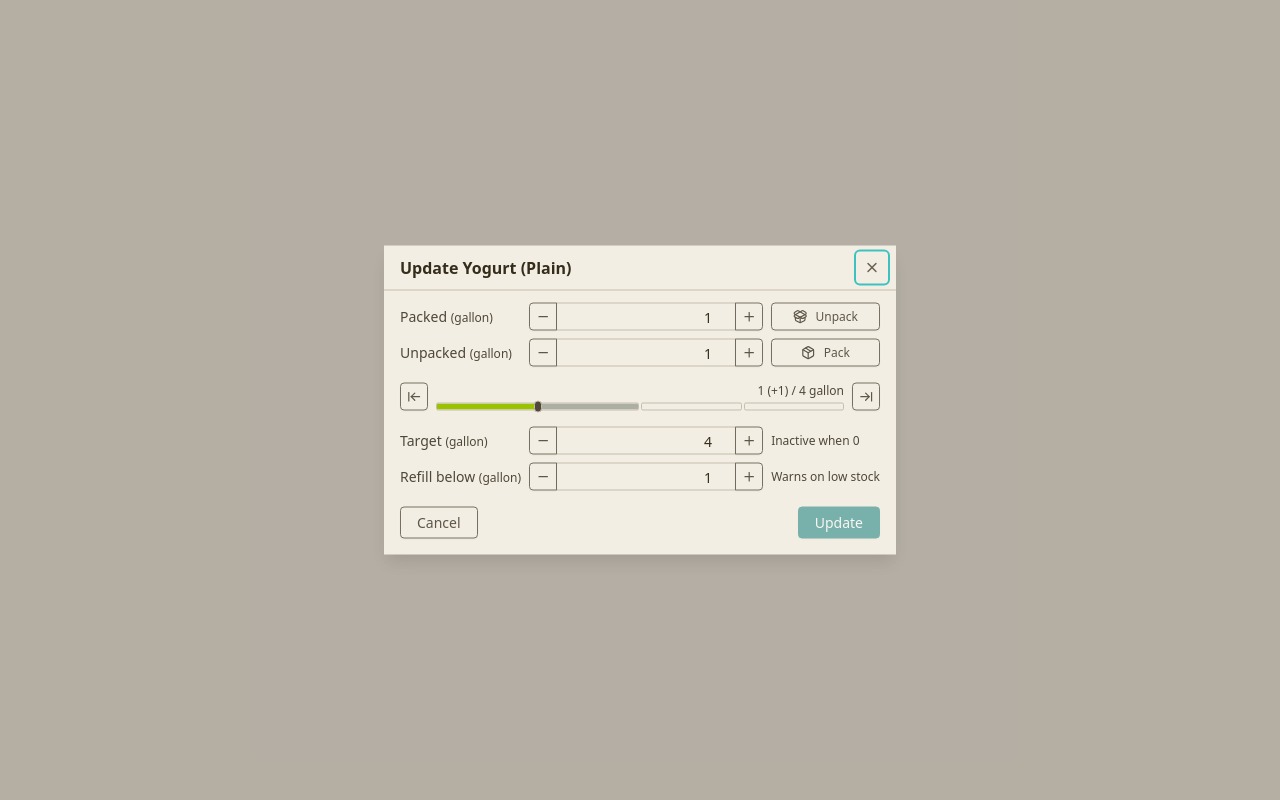
QuickUpdateDialog — Update button covers all four values › user can save after changing only the target
This screenshot has width=1280, height=800.
// When only the target changes
Click the button named "Increase target quantity" at (749, 440), box [735,426,763,454]
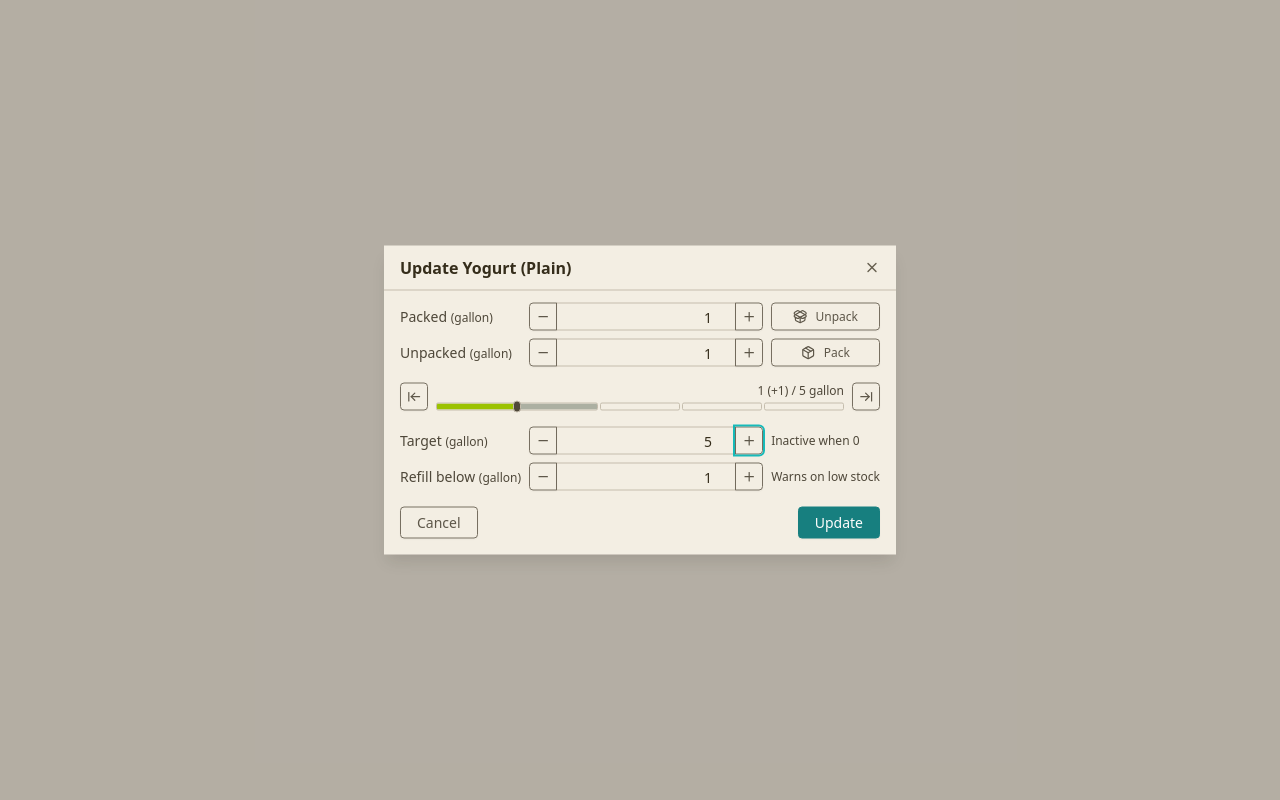
expect the button "Update" is enabled: met, box [798,506,880,538]
